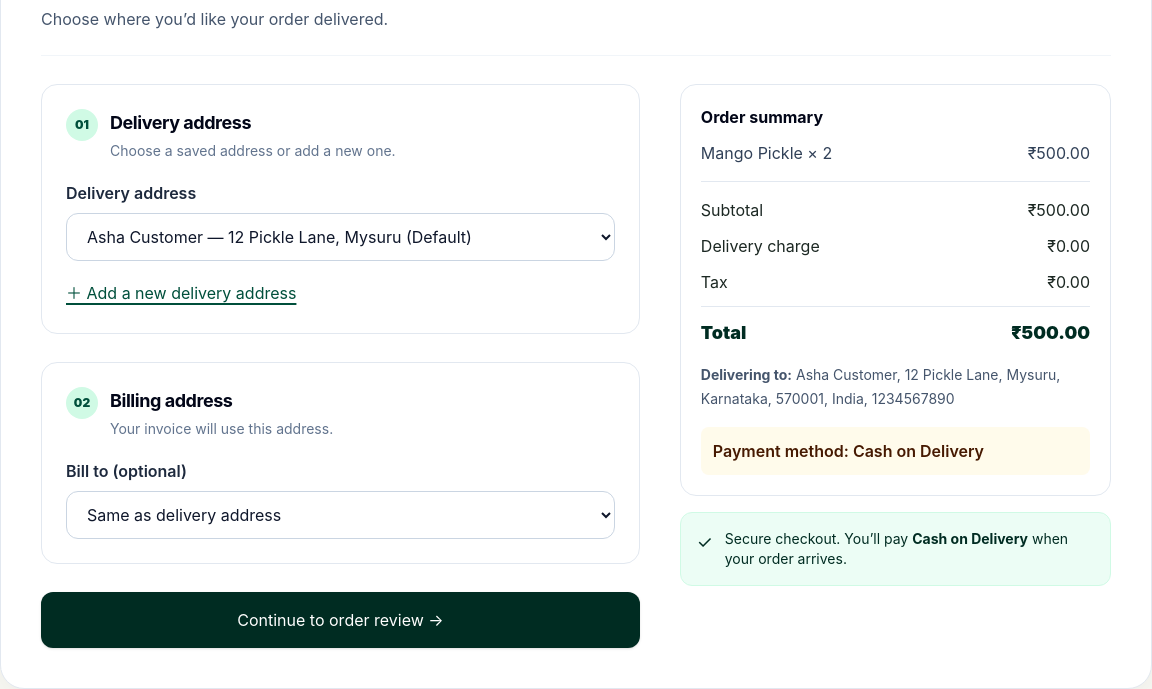
Test: CheckoutPanel › shows an empty-cart state and removes the stale item summary after server refresh
The width and height of the screenshot is (1152, 689).
(page scrolled)
Expected: the dropdown labelled "Delivery address" is shown, [66, 213, 615, 261]
Expected: the text "Mango Pickle × 2" is shown, [701, 141, 832, 165]
Click the button "Continue to order review →" at (340, 620), box [41, 592, 640, 648]
(page scrolled)
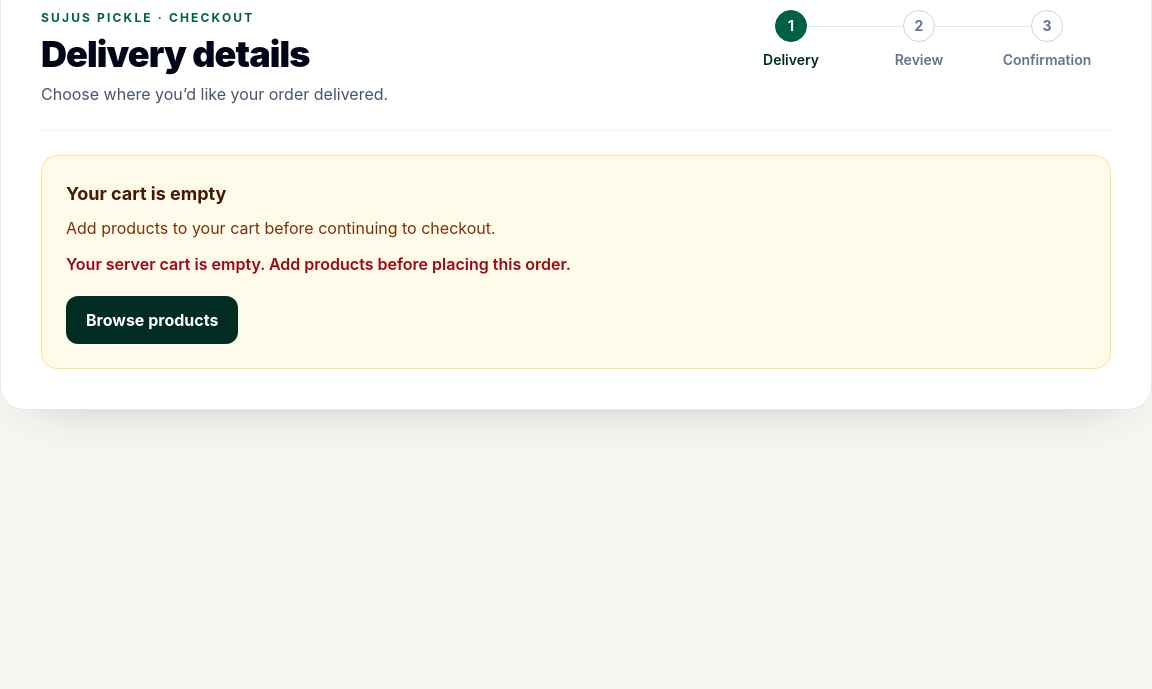
Expected: the heading "Your cart is empty" is shown, [66, 183, 226, 204]
Expected: the text "Mango Pickle × 2" is gone
